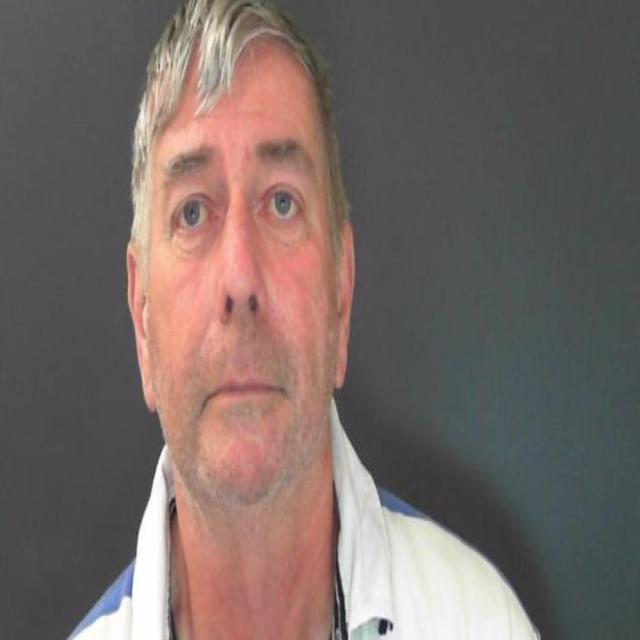mobile_phonerotation: (60, 0, 544, 637)
